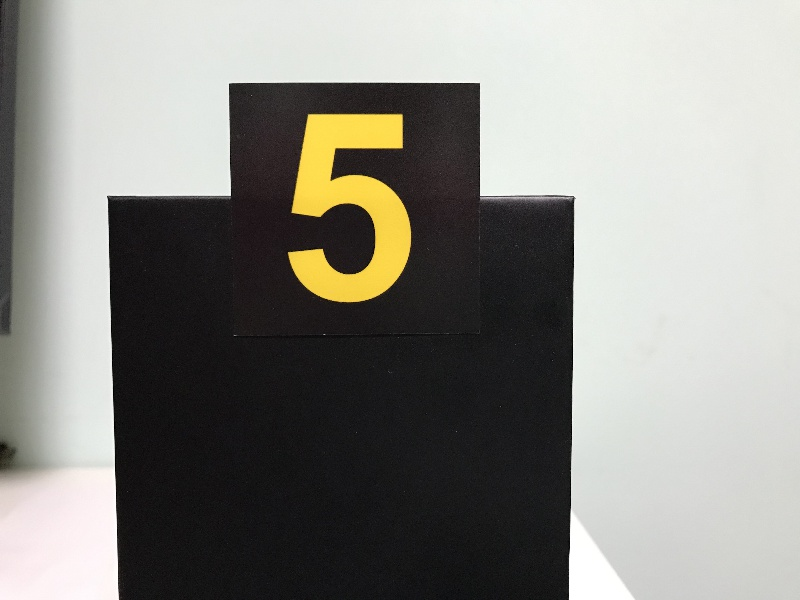Five-10: (235, 87, 477, 330)
